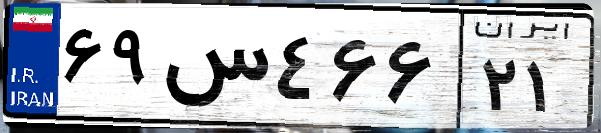1: (525, 38, 570, 115)
2: (475, 38, 525, 113)
4: (270, 28, 330, 110)
6: (385, 28, 445, 110), (330, 28, 385, 110), (57, 26, 110, 100)
9: (110, 28, 158, 98)
س: (158, 20, 270, 120)
